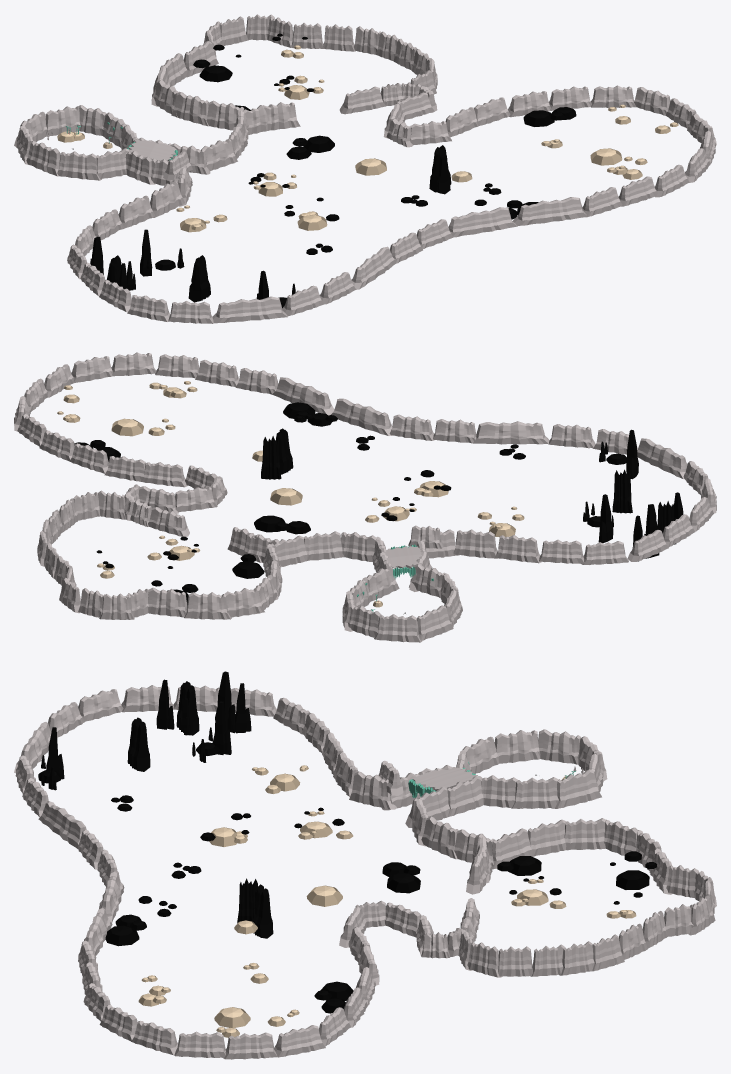
The model's file is Updated Blockout.fbx.
3 views of the same model, one above another, from view 1: azimuth 30°, elevation 25°; view 2: azimuth 150°, elevation 25°; view 3: azimuth 270°, elevation 25° (orthographic). The views are drawn at different scales.
Parts seen in each view (by area): view 1: Cliff__20_.065, Cliff__20_.060, Cliff__20_.061, Cliff__7_.001, Cliff__20_.062, Cliff__27_.041, Cliff__20_.066, Cliff__20_.049, Cliff__20_.036, Cliff__3_.001, Cliff__6_.001, Cliff__20_.067 (+45 smaller); view 2: Cliff__20_.062, Cliff__20_.061, Cliff__20_.060, Cliff__20_.065, Cliff__27_.038, Cliff__4_.001, Cliff__17_.001, Cliff__27_.037, Cliff__18_.001, Cliff__27_.046, Cliff__19_.001, Cliff__20_.063 (+49 smaller); view 3: Cliff__6_.001, Cliff__1_.001, Cliff__2_.001, Cliff__5_.001, Cliff__27_.040, Cliff__20_.051, Cliff__16_.001, Cliff__20_.052, Cliff__20_.062, Cliff__20_.050, Cliff__27_.041, Cliff__11_.001 (+46 smaller).
Boxes of the visible parts, <box> form: Cliff__20_.065: <box>212,296,287,323</box>; Cliff__20_.060: <box>512,197,586,226</box>; Cliff__20_.061: <box>448,207,517,237</box>; Cliff__7_.001: <box>57,151,101,180</box>; Cliff__20_.062: <box>351,246,395,289</box>; Cliff__27_.041: <box>171,92,209,126</box>; Cliff__20_.066: <box>168,301,213,323</box>; Cliff__20_.049: <box>591,85,636,107</box>; Cliff__20_.036: <box>339,86,386,114</box>; Cliff__3_.001: <box>45,106,80,136</box>; Cliff__6_.001: <box>26,141,60,176</box>; Cliff__20_.067: <box>127,295,170,321</box>; Cliff__20_.062: <box>473,421,549,444</box>; Cliff__20_.061: <box>331,398,392,435</box>; Cliff__20_.060: <box>272,377,334,415</box>; Cliff__20_.065: <box>637,438,687,479</box>; Cliff__27_.038: <box>184,592,231,619</box>; Cliff__4_.001: <box>374,614,422,642</box>; Cliff__17_.001: <box>453,529,497,558</box>; Cliff__27_.037: <box>148,587,186,617</box>; Cliff__18_.001: <box>495,535,541,563</box>; Cliff__27_.046: <box>303,531,344,560</box>; Cliff__19_.001: <box>539,539,584,563</box>; Cliff__20_.063: <box>548,424,595,448</box>; Cliff__6_.001: <box>494,730,540,763</box>; Cliff__1_.001: <box>511,777,564,808</box>; Cliff__2_.001: <box>552,769,601,808</box>; Cliff__5_.001: <box>538,729,581,764</box>; Cliff__27_.040: <box>564,818,605,850</box>; Cliff__20_.051: <box>222,1032,277,1059</box>; Cliff__16_.001: <box>349,771,396,809</box>; Cliff__20_.052: <box>174,1031,225,1057</box>; Cliff__20_.062: <box>38,801,86,849</box>; Cliff__20_.050: <box>274,1025,325,1057</box>; Cliff__27_.041: <box>527,819,566,856</box>; Cliff__11_.001: <box>447,776,483,816</box>.
Size of the model in its own units: 74986 by 5715 by 62577.
